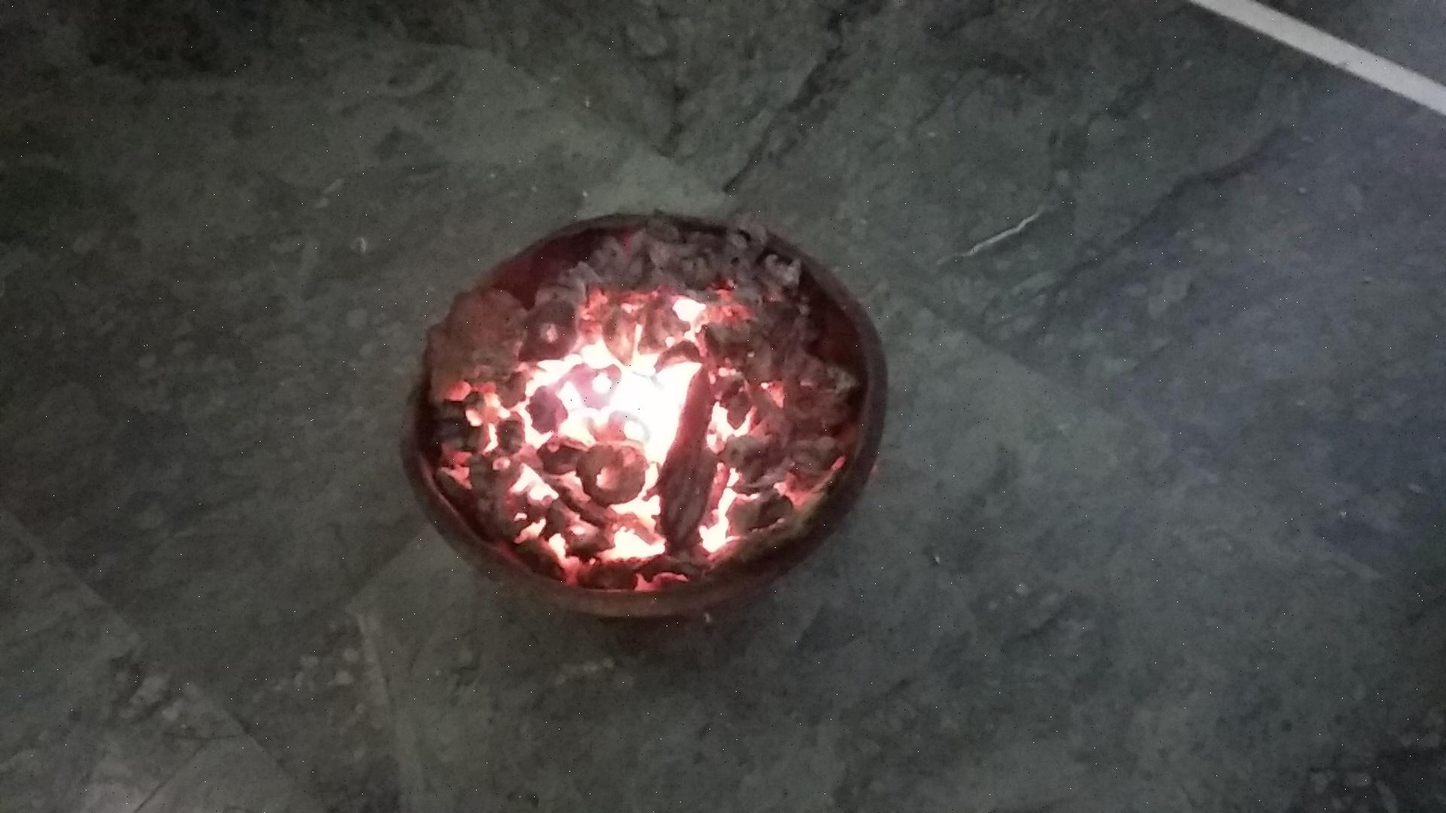fire: (420, 271, 805, 580)
